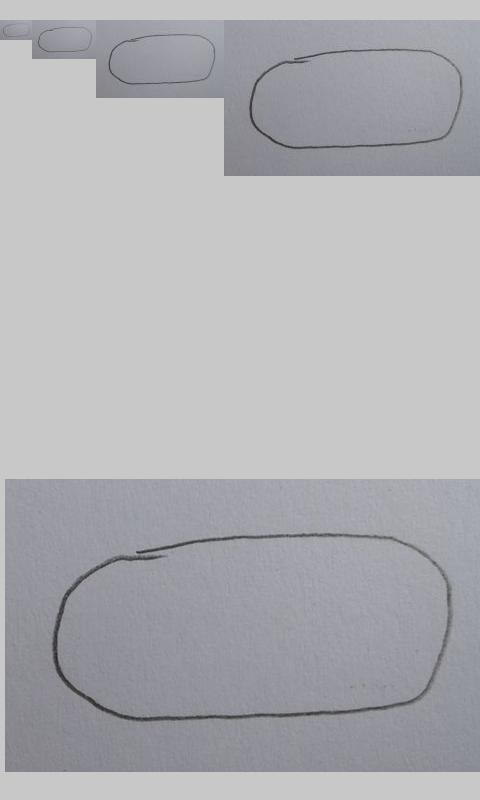chip: (51, 533, 453, 723), (248, 47, 465, 151), (108, 33, 216, 85), (38, 26, 92, 53), (2, 22, 32, 37)
